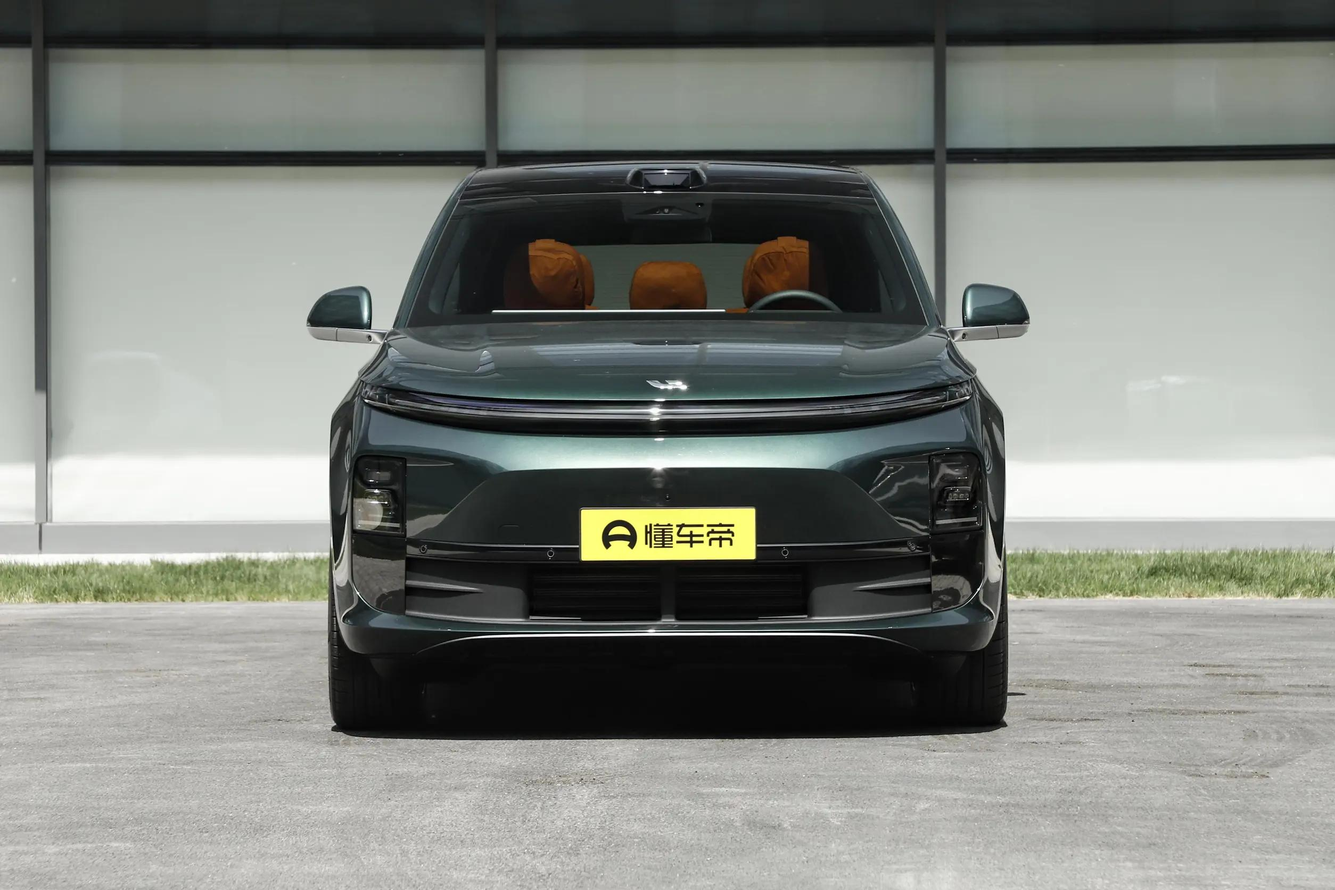Li Auto: (645, 377, 688, 392)
